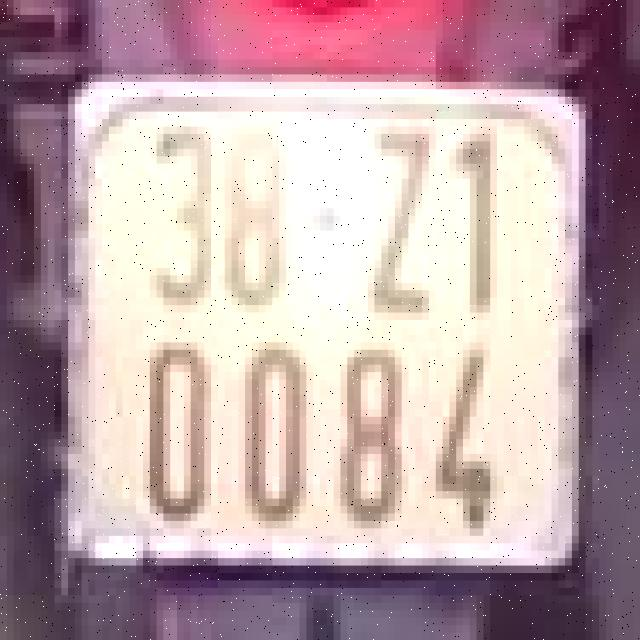0: (136, 338, 218, 524), (238, 335, 320, 521)
1: (449, 127, 511, 320)
3: (150, 115, 218, 309)
4: (436, 346, 517, 532)
8: (224, 115, 300, 309), (337, 342, 412, 528)
Z: (361, 119, 442, 320)
